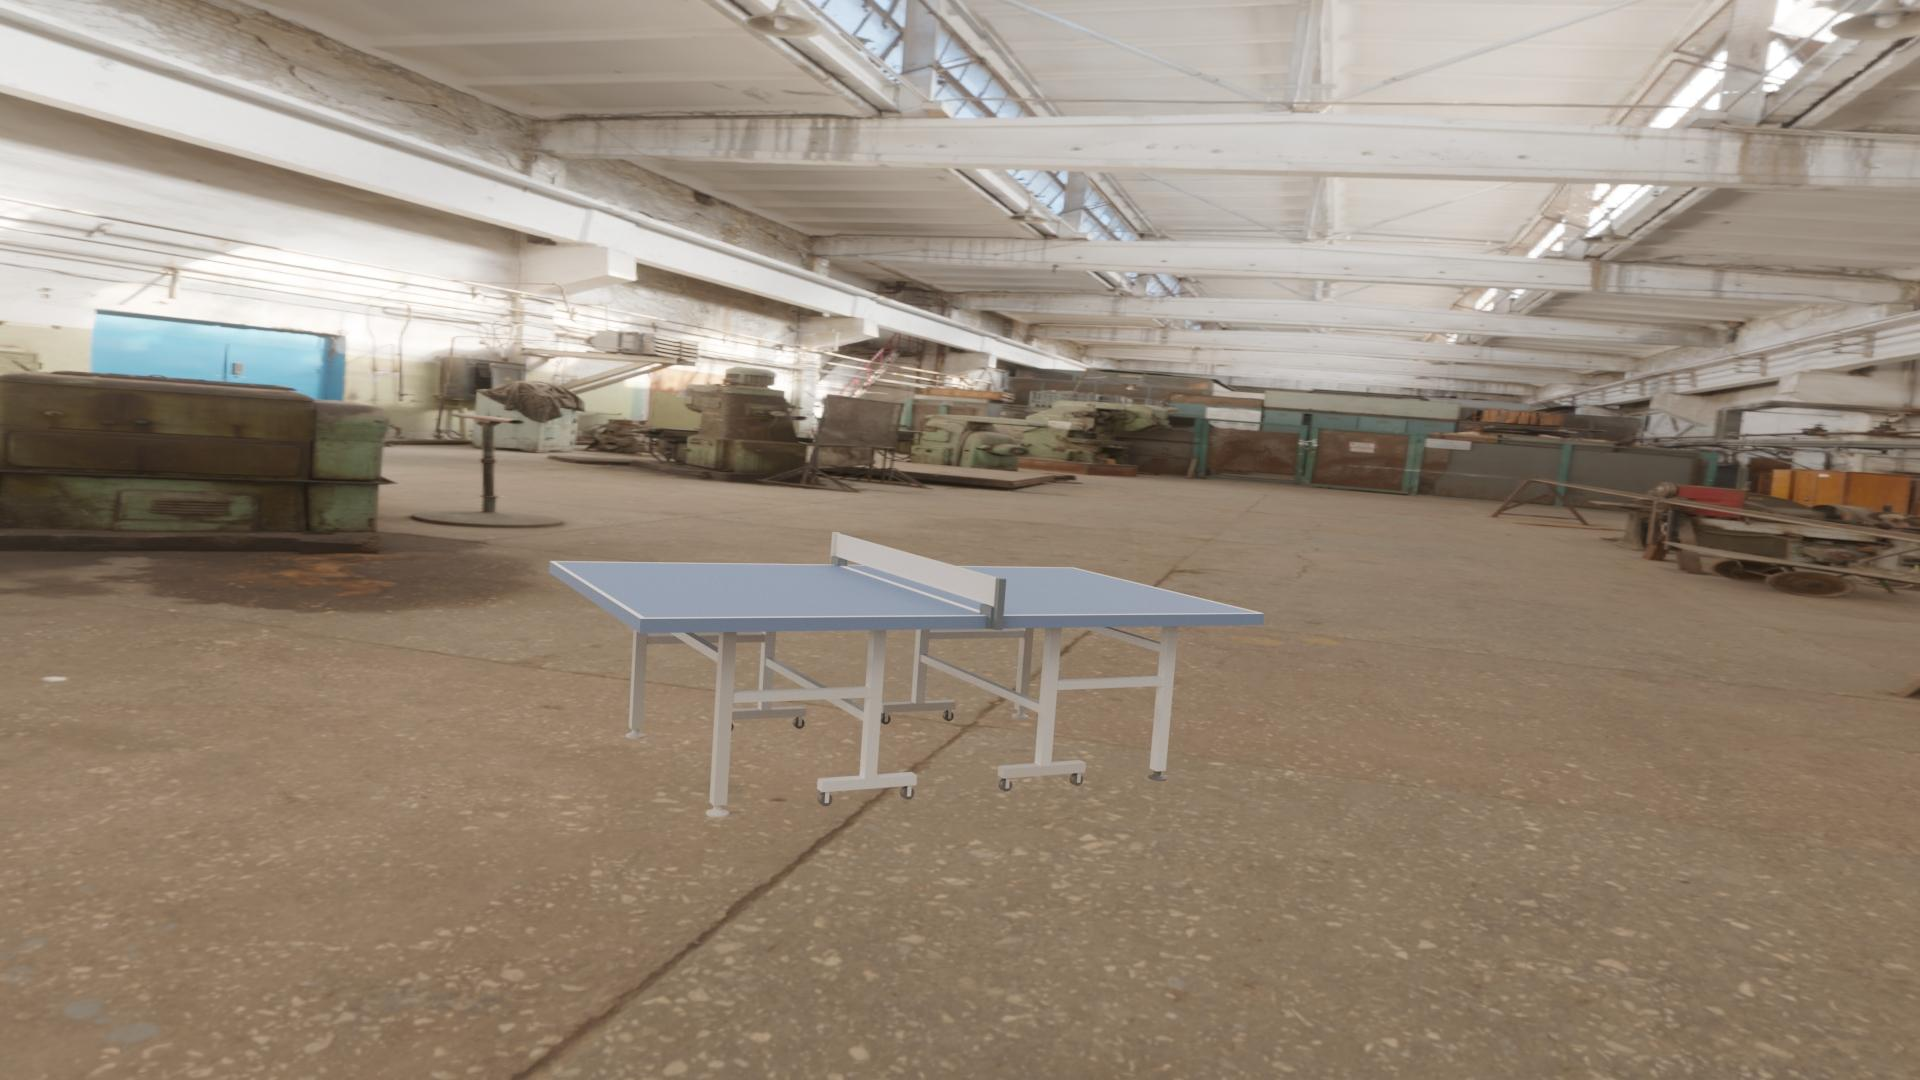table: (555, 562, 1258, 617)
